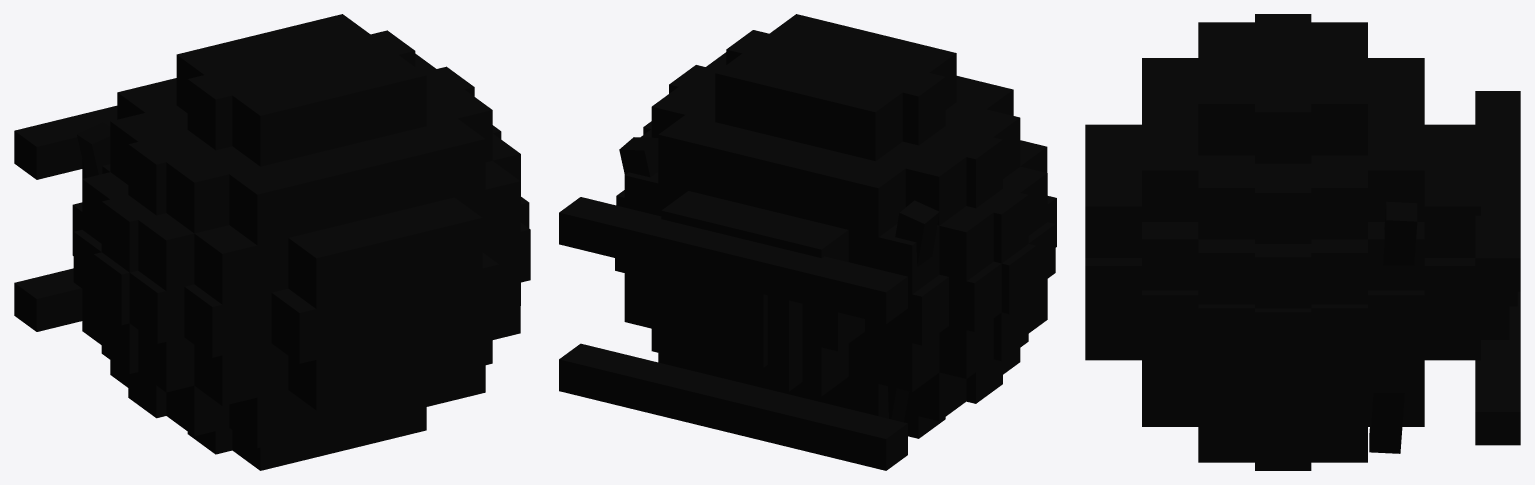
File: condensed_biomass.obj
3 renders of one model, left to right at view 1: azimuth 30°, elevation 25°; view 2: azimuth 150°, elevation 25°; view 3: azimuth 270°, elevation 25°, orthographic. The views are drawn at different scales.
Bounding box in the file's own units: 0.875 × 0.7656 × 0.8422.
